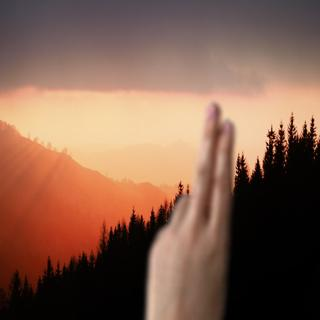DHAVE: (138, 94, 246, 320)
